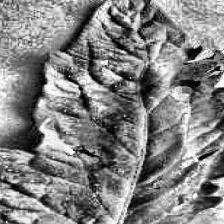disease: (73, 143, 224, 224)
